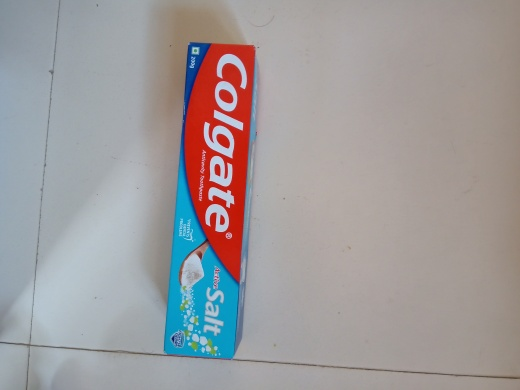colgate: (160, 35, 261, 362)
